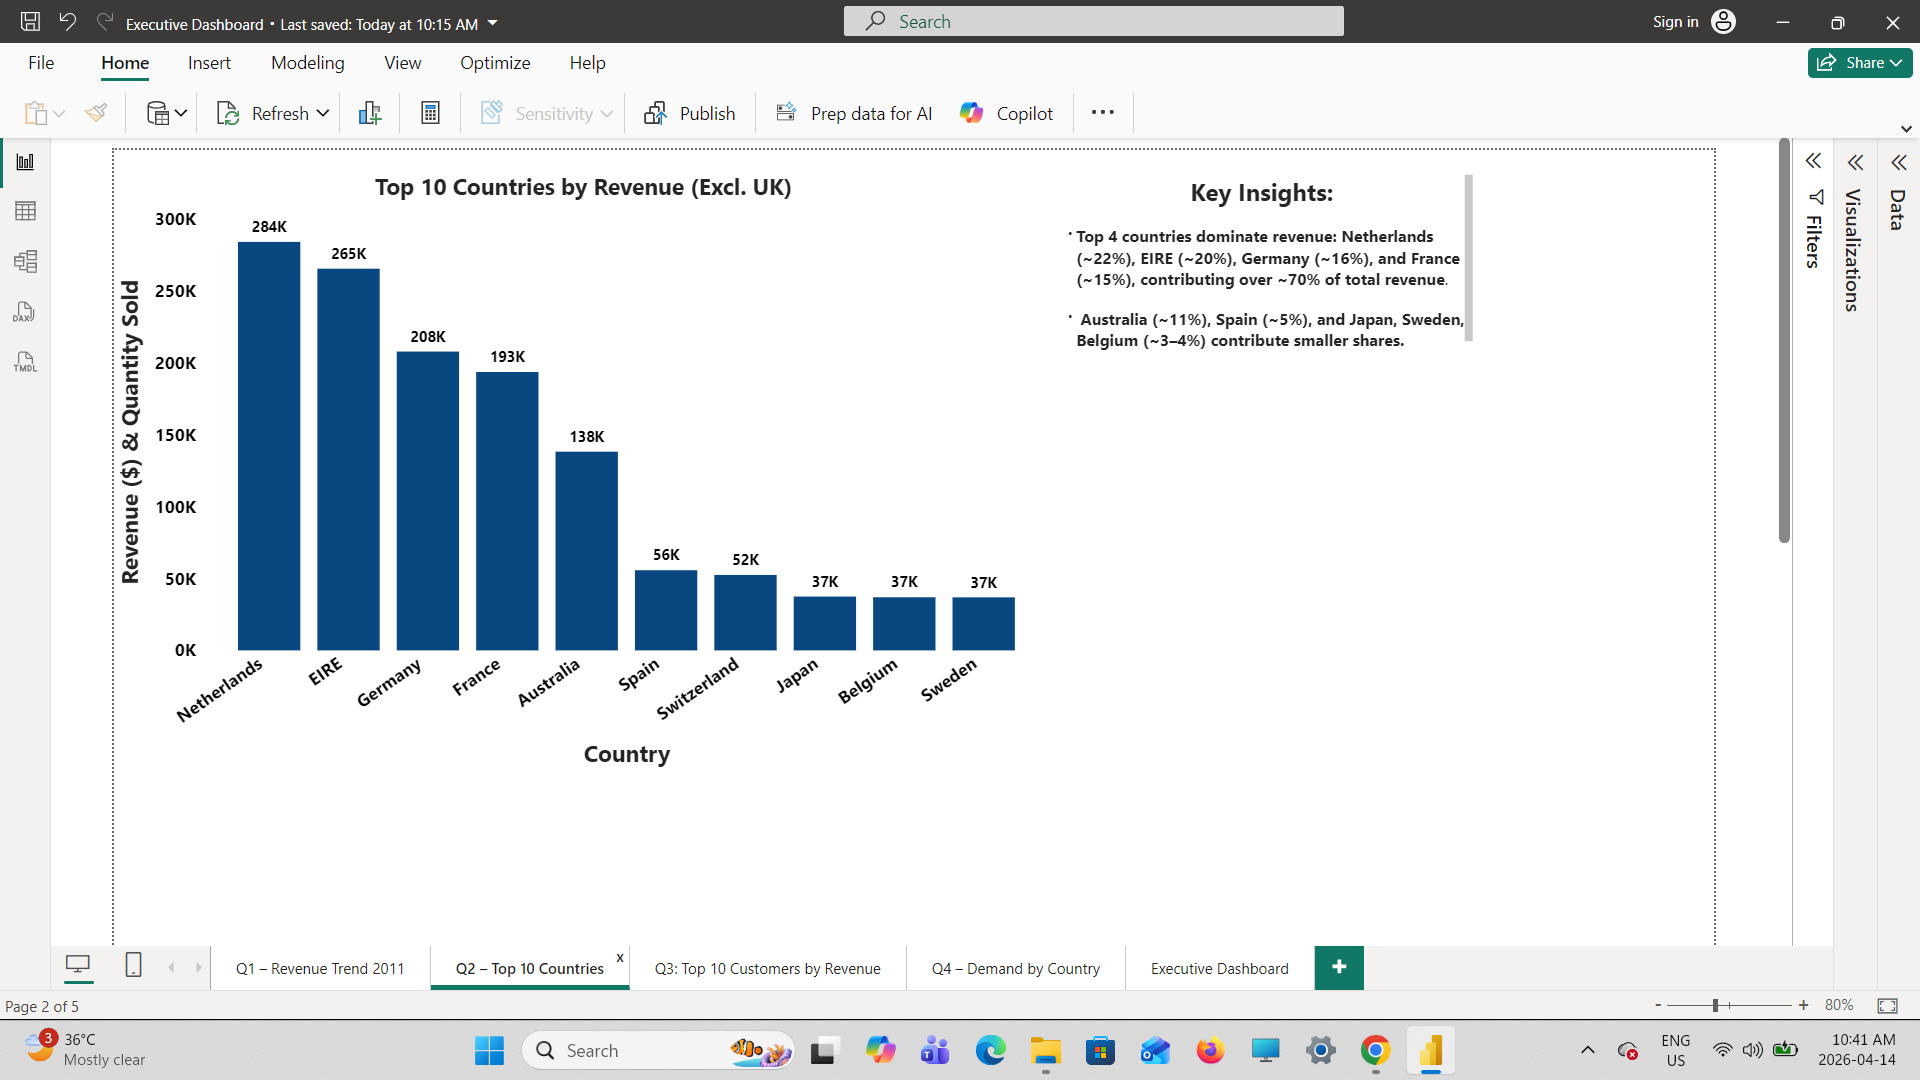

Layout of this report page (visuals, bound fields, positions):
{"tool":"powerbi","page":{"name":"Q2 – Top 10 Countries","canvas":[1600,1600],"ordinal":1},"visuals":[{"type":"clusteredColumnChart","title":"Top 10 Countries by Revenue (Excl. UK)","fields":{"Category":["Online Retail.Country"],"Y":["Online Retail.Total Revenue"]},"box":[0,20,939,603],"z":0},{"type":"textbox","box":[939,20,425,197],"z":1000}]}

Visuals, with their boxes on the page's 1600x1600 design canvas (x1, y1, x2, y2). These are canvas units, not pixel positions in the 1920x1080 screenshot, which may show the page scaled, cropped or inside an application window:
"Top 10 Countries by Revenue (Excl. UK)" clusteredColumnChart: 0, 20, 939, 623
textbox: 939, 20, 1364, 217
